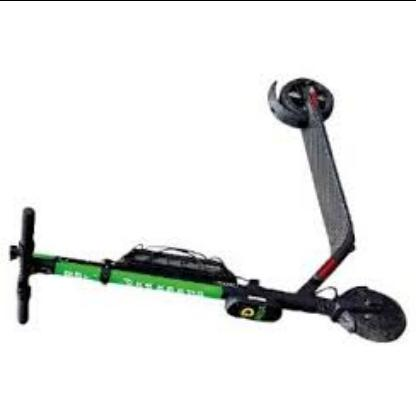bike: (8, 78, 407, 344)
